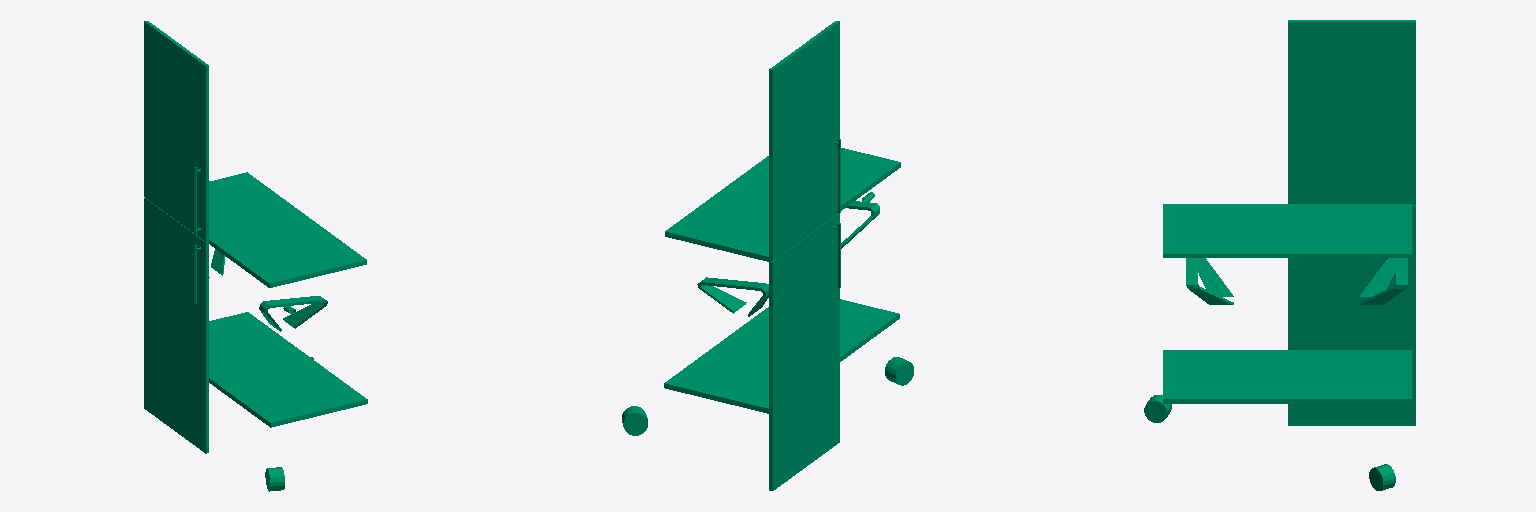
The robot description file, URDF, robot "partnet_8ddd7f1e19ff809abe81a9109a782712":
<?xml version="1.0" ?>
<robot name="partnet_8ddd7f1e19ff809abe81a9109a782712">
	<link name="base"/>
	<link name="link_0">
		<visual name="cabinet_door_surface-4">
			<origin xyz="-0.6150654759161468 -0.7430800199508666 -0.30996262874794717"/>
			<geometry>
				<mesh filename="textured_objs/original-7.obj"/>
			</geometry>
		</visual>
		<visual name="handle-5">
			<origin xyz="-0.6150654759161468 -0.7430800199508666 -0.30996262874794717"/>
			<geometry>
				<mesh filename="textured_objs/original-9.obj"/>
			</geometry>
		</visual>
		<visual name="handle-5">
			<origin xyz="-0.6150654759161468 -0.7430800199508666 -0.30996262874794717"/>
			<geometry>
				<mesh filename="textured_objs/original-10.obj"/>
			</geometry>
		</visual>
		<collision>
			<origin xyz="-0.6150654759161468 -0.7430800199508666 -0.30996262874794717"/>
			<geometry>
				<mesh filename="textured_objs/original-7.obj"/>
			</geometry>
		</collision>
		<collision>
			<origin xyz="-0.6150654759161468 -0.7430800199508666 -0.30996262874794717"/>
			<geometry>
				<mesh filename="textured_objs/original-9.obj"/>
			</geometry>
		</collision>
		<collision>
			<origin xyz="-0.6150654759161468 -0.7430800199508666 -0.30996262874794717"/>
			<geometry>
				<mesh filename="textured_objs/original-10.obj"/>
			</geometry>
		</collision>
	</link>
	<joint name="joint_0" type="revolute">
		<origin xyz="0.6150654759161468 0.7430800199508666 0.30996262874794717"/>
		<axis xyz="0 1 0"/>
		<child link="link_0"/>
		<parent link="link_1"/>
		<limit lower="0.0" upper="2.1991148575128547"/>
	</joint>
	<link name="link_1">
		<visual name="shelf-15">
			<origin xyz="0 0 0"/>
			<geometry>
				<mesh filename="textured_objs/original-20.obj"/>
			</geometry>
		</visual>
		<visual name="shelf-16">
			<origin xyz="0 0 0"/>
			<geometry>
				<mesh filename="textured_objs/original-89.obj"/>
			</geometry>
		</visual>
		<visual name="vertical_side_panel-6">
			<origin xyz="0 0 0"/>
			<geometry>
				<mesh filename="textured_objs/original-2.obj"/>
			</geometry>
		</visual>
		<visual name="vertical_side_panel-7">
			<origin xyz="0 0 0"/>
			<geometry>
				<mesh filename="textured_objs/original-3.obj"/>
			</geometry>
		</visual>
		<visual name="back_panel-8">
			<origin xyz="0 0 0"/>
			<geometry>
				<mesh filename="textured_objs/original-12.obj"/>
			</geometry>
		</visual>
		<visual name="bottom_panel-9">
			<origin xyz="0 0 0"/>
			<geometry>
				<mesh filename="textured_objs/original-1.obj"/>
			</geometry>
		</visual>
		<visual name="top_panel-10">
			<origin xyz="0 0 0"/>
			<geometry>
				<mesh filename="textured_objs/original-5.obj"/>
			</geometry>
		</visual>
		<visual name="other_leaf-14">
			<origin xyz="0 0 0"/>
			<geometry>
				<mesh filename="textured_objs/original-27.obj"/>
			</geometry>
		</visual>
		<visual name="other_leaf-14">
			<origin xyz="0 0 0"/>
			<geometry>
				<mesh filename="textured_objs/original-46.obj"/>
			</geometry>
		</visual>
		<visual name="other_leaf-14">
			<origin xyz="0 0 0"/>
			<geometry>
				<mesh filename="textured_objs/original-49.obj"/>
			</geometry>
		</visual>
		<visual name="other_leaf-14">
			<origin xyz="0 0 0"/>
			<geometry>
				<mesh filename="textured_objs/original-29.obj"/>
			</geometry>
		</visual>
		<visual name="other_leaf-14">
			<origin xyz="0 0 0"/>
			<geometry>
				<mesh filename="textured_objs/original-36.obj"/>
			</geometry>
		</visual>
		<visual name="other_leaf-14">
			<origin xyz="0 0 0"/>
			<geometry>
				<mesh filename="textured_objs/original-43.obj"/>
			</geometry>
		</visual>
		<visual name="other_leaf-14">
			<origin xyz="0 0 0"/>
			<geometry>
				<mesh filename="textured_objs/original-37.obj"/>
			</geometry>
		</visual>
		<visual name="other_leaf-14">
			<origin xyz="0 0 0"/>
			<geometry>
				<mesh filename="textured_objs/original-41.obj"/>
			</geometry>
		</visual>
		<visual name="other_leaf-14">
			<origin xyz="0 0 0"/>
			<geometry>
				<mesh filename="textured_objs/original-48.obj"/>
			</geometry>
		</visual>
		<visual name="other_leaf-14">
			<origin xyz="0 0 0"/>
			<geometry>
				<mesh filename="textured_objs/original-47.obj"/>
			</geometry>
		</visual>
		<visual name="other_leaf-14">
			<origin xyz="0 0 0"/>
			<geometry>
				<mesh filename="textured_objs/original-50.obj"/>
			</geometry>
		</visual>
		<visual name="other_leaf-14">
			<origin xyz="0 0 0"/>
			<geometry>
				<mesh filename="textured_objs/original-35.obj"/>
			</geometry>
		</visual>
		<visual name="other_leaf-14">
			<origin xyz="0 0 0"/>
			<geometry>
				<mesh filename="textured_objs/original-33.obj"/>
			</geometry>
		</visual>
		<visual name="other_leaf-14">
			<origin xyz="0 0 0"/>
			<geometry>
				<mesh filename="textured_objs/original-44.obj"/>
			</geometry>
		</visual>
		<visual name="other_leaf-14">
			<origin xyz="0 0 0"/>
			<geometry>
				<mesh filename="textured_objs/original-42.obj"/>
			</geometry>
		</visual>
		<visual name="other_leaf-14">
			<origin xyz="0 0 0"/>
			<geometry>
				<mesh filename="textured_objs/original-38.obj"/>
			</geometry>
		</visual>
		<visual name="other_leaf-14">
			<origin xyz="0 0 0"/>
			<geometry>
				<mesh filename="textured_objs/original-45.obj"/>
			</geometry>
		</visual>
		<visual name="other_leaf-14">
			<origin xyz="0 0 0"/>
			<geometry>
				<mesh filename="textured_objs/original-40.obj"/>
			</geometry>
		</visual>
		<visual name="other_leaf-14">
			<origin xyz="0 0 0"/>
			<geometry>
				<mesh filename="textured_objs/original-51.obj"/>
			</geometry>
		</visual>
		<visual name="other_leaf-14">
			<origin xyz="0 0 0"/>
			<geometry>
				<mesh filename="textured_objs/original-23.obj"/>
			</geometry>
		</visual>
		<visual name="other_leaf-14">
			<origin xyz="0 0 0"/>
			<geometry>
				<mesh filename="textured_objs/original-24.obj"/>
			</geometry>
		</visual>
		<visual name="other_leaf-14">
			<origin xyz="0 0 0"/>
			<geometry>
				<mesh filename="textured_objs/original-34.obj"/>
			</geometry>
		</visual>
		<visual name="other_leaf-14">
			<origin xyz="0 0 0"/>
			<geometry>
				<mesh filename="textured_objs/original-39.obj"/>
			</geometry>
		</visual>
		<visual name="other_leaf-14">
			<origin xyz="0 0 0"/>
			<geometry>
				<mesh filename="textured_objs/original-22.obj"/>
			</geometry>
		</visual>
		<visual name="other_leaf-14">
			<origin xyz="0 0 0"/>
			<geometry>
				<mesh filename="textured_objs/original-25.obj"/>
			</geometry>
		</visual>
		<visual name="other_leaf-14">
			<origin xyz="0 0 0"/>
			<geometry>
				<mesh filename="textured_objs/original-30.obj"/>
			</geometry>
		</visual>
		<visual name="other_leaf-14">
			<origin xyz="0 0 0"/>
			<geometry>
				<mesh filename="textured_objs/original-32.obj"/>
			</geometry>
		</visual>
		<visual name="other_leaf-14">
			<origin xyz="0 0 0"/>
			<geometry>
				<mesh filename="textured_objs/original-28.obj"/>
			</geometry>
		</visual>
		<visual name="other_leaf-14">
			<origin xyz="0 0 0"/>
			<geometry>
				<mesh filename="textured_objs/original-31.obj"/>
			</geometry>
		</visual>
		<visual name="other_leaf-13">
			<origin xyz="0 0 0"/>
			<geometry>
				<mesh filename="textured_objs/original-55.obj"/>
			</geometry>
		</visual>
		<visual name="other_leaf-13">
			<origin xyz="0 0 0"/>
			<geometry>
				<mesh filename="textured_objs/original-68.obj"/>
			</geometry>
		</visual>
		<visual name="other_leaf-13">
			<origin xyz="0 0 0"/>
			<geometry>
				<mesh filename="textured_objs/original-79.obj"/>
			</geometry>
		</visual>
		<visual name="other_leaf-13">
			<origin xyz="0 0 0"/>
			<geometry>
				<mesh filename="textured_objs/original-67.obj"/>
			</geometry>
		</visual>
		<visual name="other_leaf-13">
			<origin xyz="0 0 0"/>
			<geometry>
				<mesh filename="textured_objs/original-66.obj"/>
			</geometry>
		</visual>
		<visual name="other_leaf-13">
			<origin xyz="0 0 0"/>
			<geometry>
				<mesh filename="textured_objs/original-65.obj"/>
			</geometry>
		</visual>
		<visual name="other_leaf-13">
			<origin xyz="0 0 0"/>
			<geometry>
				<mesh filename="textured_objs/original-64.obj"/>
			</geometry>
		</visual>
		<visual name="other_leaf-13">
			<origin xyz="0 0 0"/>
			<geometry>
				<mesh filename="textured_objs/original-63.obj"/>
			</geometry>
		</visual>
		<visual name="other_leaf-13">
			<origin xyz="0 0 0"/>
			<geometry>
				<mesh filename="textured_objs/original-78.obj"/>
			</geometry>
		</visual>
		<visual name="other_leaf-13">
			<origin xyz="0 0 0"/>
			<geometry>
				<mesh filename="textured_objs/original-77.obj"/>
			</geometry>
		</visual>
		<visual name="other_leaf-13">
			<origin xyz="0 0 0"/>
			<geometry>
				<mesh filename="textured_objs/original-76.obj"/>
			</geometry>
		</visual>
		<visual name="other_leaf-13">
			<origin xyz="0 0 0"/>
			<geometry>
				<mesh filename="textured_objs/original-75.obj"/>
			</geometry>
		</visual>
		<visual name="other_leaf-13">
			<origin xyz="0 0 0"/>
			<geometry>
				<mesh filename="textured_objs/original-74.obj"/>
			</geometry>
		</visual>
		<visual name="other_leaf-13">
			<origin xyz="0 0 0"/>
			<geometry>
				<mesh filename="textured_objs/original-62.obj"/>
			</geometry>
		</visual>
		<visual name="other_leaf-13">
			<origin xyz="0 0 0"/>
			<geometry>
				<mesh filename="textured_objs/original-73.obj"/>
			</geometry>
		</visual>
		<visual name="other_leaf-13">
			<origin xyz="0 0 0"/>
			<geometry>
				<mesh filename="textured_objs/original-61.obj"/>
			</geometry>
		</visual>
		<visual name="other_leaf-13">
			<origin xyz="0 0 0"/>
			<geometry>
				<mesh filename="textured_objs/original-60.obj"/>
			</geometry>
		</visual>
		<visual name="other_leaf-13">
			<origin xyz="0 0 0"/>
			<geometry>
				<mesh filename="textured_objs/original-59.obj"/>
			</geometry>
		</visual>
		<visual name="other_leaf-13">
			<origin xyz="0 0 0"/>
			<geometry>
				<mesh filename="textured_objs/original-58.obj"/>
			</geometry>
		</visual>
		<visual name="other_leaf-13">
			<origin xyz="0 0 0"/>
			<geometry>
				<mesh filename="textured_objs/original-72.obj"/>
			</geometry>
		</visual>
		<visual name="other_leaf-13">
			<origin xyz="0 0 0"/>
			<geometry>
				<mesh filename="textured_objs/original-71.obj"/>
			</geometry>
		</visual>
		<visual name="other_leaf-13">
			<origin xyz="0 0 0"/>
			<geometry>
				<mesh filename="textured_objs/original-70.obj"/>
			</geometry>
		</visual>
		<visual name="other_leaf-13">
			<origin xyz="0 0 0"/>
			<geometry>
				<mesh filename="textured_objs/original-69.obj"/>
			</geometry>
		</visual>
		<visual name="other_leaf-13">
			<origin xyz="0 0 0"/>
			<geometry>
				<mesh filename="textured_objs/original-57.obj"/>
			</geometry>
		</visual>
		<visual name="other_leaf-13">
			<origin xyz="0 0 0"/>
			<geometry>
				<mesh filename="textured_objs/original-56.obj"/>
			</geometry>
		</visual>
		<visual name="other_leaf-13">
			<origin xyz="0 0 0"/>
			<geometry>
				<mesh filename="textured_objs/original-81.obj"/>
			</geometry>
		</visual>
		<visual name="other_leaf-13">
			<origin xyz="0 0 0"/>
			<geometry>
				<mesh filename="textured_objs/original-80.obj"/>
			</geometry>
		</visual>
		<visual name="other_leaf-13">
			<origin xyz="0 0 0"/>
			<geometry>
				<mesh filename="textured_objs/original-85.obj"/>
			</geometry>
		</visual>
		<visual name="frame_horizontal_bar-17">
			<origin xyz="0 0 0"/>
			<geometry>
				<mesh filename="textured_objs/original-83.obj"/>
			</geometry>
		</visual>
		<visual name="frame_horizontal_bar-17">
			<origin xyz="0 0 0"/>
			<geometry>
				<mesh filename="textured_objs/original-84.obj"/>
			</geometry>
		</visual>
		<visual name="frame_horizontal_bar-18">
			<origin xyz="0 0 0"/>
			<geometry>
				<mesh filename="textured_objs/original-87.obj"/>
			</geometry>
		</visual>
		<visual name="frame_horizontal_bar-18">
			<origin xyz="0 0 0"/>
			<geometry>
				<mesh filename="textured_objs/original-88.obj"/>
			</geometry>
		</visual>
		<visual name="frame_horizontal_bar-19">
			<origin xyz="0 0 0"/>
			<geometry>
				<mesh filename="textured_objs/original-19.obj"/>
			</geometry>
		</visual>
		<visual name="frame_horizontal_bar-20">
			<origin xyz="0 0 0"/>
			<geometry>
				<mesh filename="textured_objs/original-18.obj"/>
			</geometry>
		</visual>
		<visual name="frame_horizontal_bar-21">
			<origin xyz="0 0 0"/>
			<geometry>
				<mesh filename="textured_objs/original-16.obj"/>
			</geometry>
		</visual>
		<visual name="frame_horizontal_bar-22">
			<origin xyz="0 0 0"/>
			<geometry>
				<mesh filename="textured_objs/original-17.obj"/>
			</geometry>
		</visual>
		<visual name="other_leaf-26">
			<origin xyz="0 0 0"/>
			<geometry>
				<mesh filename="textured_objs/original-11.obj"/>
			</geometry>
		</visual>
		<visual name="other_leaf-25">
			<origin xyz="0 0 0"/>
			<geometry>
				<mesh filename="textured_objs/original-4.obj"/>
			</geometry>
		</visual>
		<collision>
			<origin xyz="0 0 0"/>
			<geometry>
				<mesh filename="textured_objs/original-20.obj"/>
			</geometry>
		</collision>
		<collision>
			<origin xyz="0 0 0"/>
			<geometry>
				<mesh filename="textured_objs/original-89.obj"/>
			</geometry>
		</collision>
		<collision>
			<origin xyz="0 0 0"/>
			<geometry>
				<mesh filename="textured_objs/original-2.obj"/>
			</geometry>
		</collision>
		<collision>
			<origin xyz="0 0 0"/>
			<geometry>
				<mesh filename="textured_objs/original-3.obj"/>
			</geometry>
		</collision>
		<collision>
			<origin xyz="0 0 0"/>
			<geometry>
				<mesh filename="textured_objs/original-12.obj"/>
			</geometry>
		</collision>
		<collision>
			<origin xyz="0 0 0"/>
			<geometry>
				<mesh filename="textured_objs/original-1.obj"/>
			</geometry>
		</collision>
		<collision>
			<origin xyz="0 0 0"/>
			<geometry>
				<mesh filename="textured_objs/original-5.obj"/>
			</geometry>
		</collision>
		<collision>
			<origin xyz="0 0 0"/>
			<geometry>
				<mesh filename="textured_objs/original-27.obj"/>
			</geometry>
		</collision>
		<collision>
			<origin xyz="0 0 0"/>
			<geometry>
				<mesh filename="textured_objs/original-46.obj"/>
			</geometry>
		</collision>
		<collision>
			<origin xyz="0 0 0"/>
			<geometry>
				<mesh filename="textured_objs/original-49.obj"/>
			</geometry>
		</collision>
		<collision>
			<origin xyz="0 0 0"/>
			<geometry>
				<mesh filename="textured_objs/original-29.obj"/>
			</geometry>
		</collision>
		<collision>
			<origin xyz="0 0 0"/>
			<geometry>
				<mesh filename="textured_objs/original-36.obj"/>
			</geometry>
		</collision>
		<collision>
			<origin xyz="0 0 0"/>
			<geometry>
				<mesh filename="textured_objs/original-43.obj"/>
			</geometry>
		</collision>
		<collision>
			<origin xyz="0 0 0"/>
			<geometry>
				<mesh filename="textured_objs/original-37.obj"/>
			</geometry>
		</collision>
		<collision>
			<origin xyz="0 0 0"/>
			<geometry>
				<mesh filename="textured_objs/original-41.obj"/>
			</geometry>
		</collision>
		<collision>
			<origin xyz="0 0 0"/>
			<geometry>
				<mesh filename="textured_objs/original-48.obj"/>
			</geometry>
		</collision>
		<collision>
			<origin xyz="0 0 0"/>
			<geometry>
				<mesh filename="textured_objs/original-47.obj"/>
			</geometry>
		</collision>
		<collision>
			<origin xyz="0 0 0"/>
			<geometry>
				<mesh filename="textured_objs/original-50.obj"/>
			</geometry>
		</collision>
		<collision>
			<origin xyz="0 0 0"/>
			<geometry>
				<mesh filename="textured_objs/original-35.obj"/>
			</geometry>
		</collision>
		<collision>
			<origin xyz="0 0 0"/>
			<geometry>
				<mesh filename="textured_objs/original-33.obj"/>
			</geometry>
		</collision>
		<collision>
			<origin xyz="0 0 0"/>
			<geometry>
				<mesh filename="textured_objs/original-44.obj"/>
			</geometry>
		</collision>
		<collision>
			<origin xyz="0 0 0"/>
			<geometry>
				<mesh filename="textured_objs/original-42.obj"/>
			</geometry>
		</collision>
		<collision>
			<origin xyz="0 0 0"/>
			<geometry>
				<mesh filename="textured_objs/original-38.obj"/>
			</geometry>
		</collision>
		<collision>
			<origin xyz="0 0 0"/>
			<geometry>
				<mesh filename="textured_objs/original-45.obj"/>
			</geometry>
		</collision>
		<collision>
			<origin xyz="0 0 0"/>
			<geometry>
				<mesh filename="textured_objs/original-40.obj"/>
			</geometry>
		</collision>
		<collision>
			<origin xyz="0 0 0"/>
			<geometry>
				<mesh filename="textured_objs/original-51.obj"/>
			</geometry>
		</collision>
		<collision>
			<origin xyz="0 0 0"/>
			<geometry>
				<mesh filename="textured_objs/original-23.obj"/>
			</geometry>
		</collision>
		<collision>
			<origin xyz="0 0 0"/>
			<geometry>
				<mesh filename="textured_objs/original-24.obj"/>
			</geometry>
		</collision>
		<collision>
			<origin xyz="0 0 0"/>
			<geometry>
				<mesh filename="textured_objs/original-34.obj"/>
			</geometry>
		</collision>
		<collision>
			<origin xyz="0 0 0"/>
			<geometry>
				<mesh filename="textured_objs/original-39.obj"/>
			</geometry>
		</collision>
		<collision>
			<origin xyz="0 0 0"/>
			<geometry>
				<mesh filename="textured_objs/original-22.obj"/>
			</geometry>
		</collision>
		<collision>
			<origin xyz="0 0 0"/>
			<geometry>
				<mesh filename="textured_objs/original-25.obj"/>
			</geometry>
		</collision>
		<collision>
			<origin xyz="0 0 0"/>
			<geometry>
				<mesh filename="textured_objs/original-30.obj"/>
			</geometry>
		</collision>
		<collision>
			<origin xyz="0 0 0"/>
			<geometry>
				<mesh filename="textured_objs/original-32.obj"/>
			</geometry>
		</collision>
		<collision>
			<origin xyz="0 0 0"/>
			<geometry>
				<mesh filename="textured_objs/original-28.obj"/>
			</geometry>
		</collision>
		<collision>
			<origin xyz="0 0 0"/>
			<geometry>
				<mesh filename="textured_objs/original-31.obj"/>
			</geometry>
		</collision>
		<collision>
			<origin xyz="0 0 0"/>
			<geometry>
				<mesh filename="textured_objs/original-55.obj"/>
			</geometry>
		</collision>
		<collision>
			<origin xyz="0 0 0"/>
			<geometry>
				<mesh filename="textured_objs/original-68.obj"/>
			</geometry>
		</collision>
		<collision>
			<origin xyz="0 0 0"/>
			<geometry>
				<mesh filename="textured_objs/original-79.obj"/>
			</geometry>
		</collision>
		<collision>
			<origin xyz="0 0 0"/>
			<geometry>
				<mesh filename="textured_objs/original-67.obj"/>
			</geometry>
		</collision>
		<collision>
			<origin xyz="0 0 0"/>
			<geometry>
				<mesh filename="textured_objs/original-66.obj"/>
			</geometry>
		</collision>
		<collision>
			<origin xyz="0 0 0"/>
			<geometry>
				<mesh filename="textured_objs/original-65.obj"/>
			</geometry>
		</collision>
		<collision>
			<origin xyz="0 0 0"/>
			<geometry>
				<mesh filename="textured_objs/original-64.obj"/>
			</geometry>
		</collision>
		<collision>
			<origin xyz="0 0 0"/>
			<geometry>
				<mesh filename="textured_objs/original-63.obj"/>
			</geometry>
		</collision>
		<collision>
			<origin xyz="0 0 0"/>
			<geometry>
				<mesh filename="textured_objs/original-78.obj"/>
			</geometry>
		</collision>
		<collision>
			<origin xyz="0 0 0"/>
			<geometry>
				<mesh filename="textured_objs/original-77.obj"/>
			</geometry>
		</collision>
		<collision>
			<origin xyz="0 0 0"/>
			<geometry>
				<mesh filename="textured_objs/original-76.obj"/>
			</geometry>
		</collision>
		<collision>
			<origin xyz="0 0 0"/>
			<geometry>
				<mesh filename="textured_objs/original-75.obj"/>
			</geometry>
		</collision>
		<collision>
			<origin xyz="0 0 0"/>
			<geometry>
				<mesh filename="textured_objs/original-74.obj"/>
			</geometry>
		</collision>
		<collision>
			<origin xyz="0 0 0"/>
			<geometry>
				<mesh filename="textured_objs/original-62.obj"/>
			</geometry>
		</collision>
		<collision>
			<origin xyz="0 0 0"/>
			<geometry>
				<mesh filename="textured_objs/original-73.obj"/>
			</geometry>
		</collision>
		<collision>
			<origin xyz="0 0 0"/>
			<geometry>
				<mesh filename="textured_objs/original-61.obj"/>
			</geometry>
		</collision>
		<collision>
			<origin xyz="0 0 0"/>
			<geometry>
				<mesh filename="textured_objs/original-60.obj"/>
			</geometry>
		</collision>
		<collision>
			<origin xyz="0 0 0"/>
			<geometry>
				<mesh filename="textured_objs/original-59.obj"/>
			</geometry>
		</collision>
		<collision>
			<origin xyz="0 0 0"/>
			<geometry>
				<mesh filename="textured_objs/original-58.obj"/>
			</geometry>
		</collision>
		<collision>
			<origin xyz="0 0 0"/>
			<geometry>
				<mesh filename="textured_objs/original-72.obj"/>
			</geometry>
		</collision>
		<collision>
			<origin xyz="0 0 0"/>
			<geometry>
				<mesh filename="textured_objs/original-71.obj"/>
			</geometry>
		</collision>
		<collision>
			<origin xyz="0 0 0"/>
			<geometry>
				<mesh filename="textured_objs/original-70.obj"/>
			</geometry>
		</collision>
		<collision>
			<origin xyz="0 0 0"/>
			<geometry>
				<mesh filename="textured_objs/original-69.obj"/>
			</geometry>
		</collision>
		<collision>
			<origin xyz="0 0 0"/>
			<geometry>
				<mesh filename="textured_objs/original-57.obj"/>
			</geometry>
		</collision>
		<collision>
			<origin xyz="0 0 0"/>
			<geometry>
				<mesh filename="textured_objs/original-56.obj"/>
			</geometry>
		</collision>
		<collision>
			<origin xyz="0 0 0"/>
			<geometry>
				<mesh filename="textured_objs/original-81.obj"/>
			</geometry>
		</collision>
		<collision>
			<origin xyz="0 0 0"/>
			<geometry>
				<mesh filename="textured_objs/original-80.obj"/>
			</geometry>
		</collision>
		<collision>
			<origin xyz="0 0 0"/>
			<geometry>
				<mesh filename="textured_objs/original-85.obj"/>
			</geometry>
		</collision>
		<collision>
			<origin xyz="0 0 0"/>
			<geometry>
				<mesh filename="textured_objs/original-83.obj"/>
			</geometry>
		</collision>
		<collision>
			<origin xyz="0 0 0"/>
			<geometry>
				<mesh filename="textured_objs/original-84.obj"/>
			</geometry>
		</collision>
		<collision>
			<origin xyz="0 0 0"/>
			<geometry>
				<mesh filename="textured_objs/original-87.obj"/>
			</geometry>
		</collision>
		<collision>
			<origin xyz="0 0 0"/>
			<geometry>
				<mesh filename="textured_objs/original-88.obj"/>
			</geometry>
		</collision>
		<collision>
			<origin xyz="0 0 0"/>
			<geometry>
				<mesh filename="textured_objs/original-19.obj"/>
			</geometry>
		</collision>
		<collision>
			<origin xyz="0 0 0"/>
			<geometry>
				<mesh filename="textured_objs/original-18.obj"/>
			</geometry>
		</collision>
		<collision>
			<origin xyz="0 0 0"/>
			<geometry>
				<mesh filename="textured_objs/original-16.obj"/>
			</geometry>
		</collision>
		<collision>
			<origin xyz="0 0 0"/>
			<geometry>
				<mesh filename="textured_objs/original-17.obj"/>
			</geometry>
		</collision>
		<collision>
			<origin xyz="0 0 0"/>
			<geometry>
				<mesh filename="textured_objs/original-11.obj"/>
			</geometry>
		</collision>
		<collision>
			<origin xyz="0 0 0"/>
			<geometry>
				<mesh filename="textured_objs/original-4.obj"/>
			</geometry>
		</collision>
	</link>
	<joint name="joint_1" type="fixed">
		<origin rpy="1.570796326794897 0 -1.570796326794897" xyz="0 0 0"/>
		<child link="link_1"/>
		<parent link="base"/>
	</joint>
</robot>

--- What the picture shows (computed from the rendered views, not written in the file) ---
The picture shows the robot from 3 angles, left to right: view 1: azimuth 30°, elevation 25°; view 2: azimuth 150°, elevation 25°; view 3: azimuth 270°, elevation 25°; orthographic projection.
Robot: partnet_8ddd7f1e19ff809abe81a9109a782712 — 3 links, 2 joints (1 revolute, 1 fixed); root link base; default pose: every joint at zero.
Visible links, largest first — view 1: link_1; view 2: link_1; view 3: link_1.
Link boxes in pixels (x1=…): link_1: x1=144, y1=21, x2=367, y2=491; link_1: x1=622, y1=21, x2=913, y2=490; link_1: x1=1144, y1=20, x2=1415, y2=490.
Bounding box of the posed robot: 0.7376 × 1.03 × 1.7 m (x, y, z).
15 mesh visuals loaded from 77 distinct referenced files (15 OBJ); not drawn: 62 (reference not matched to a file when rendering).